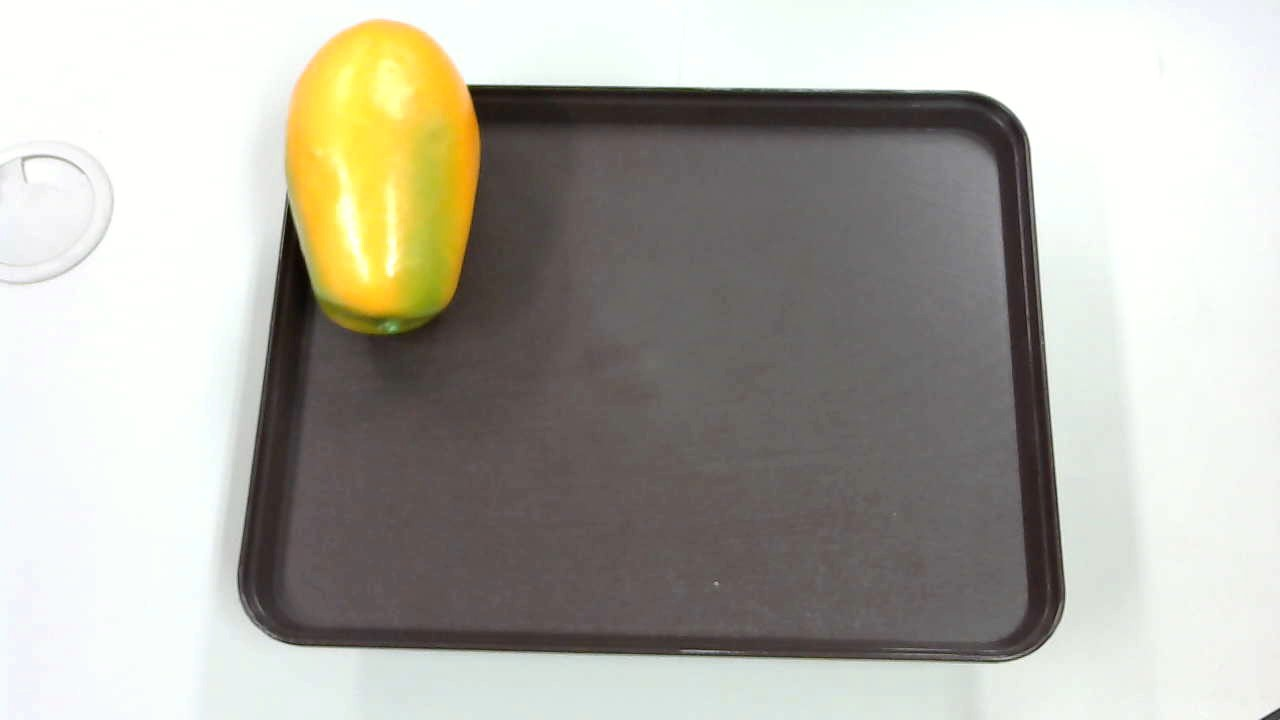papya: (286, 12, 488, 342)
